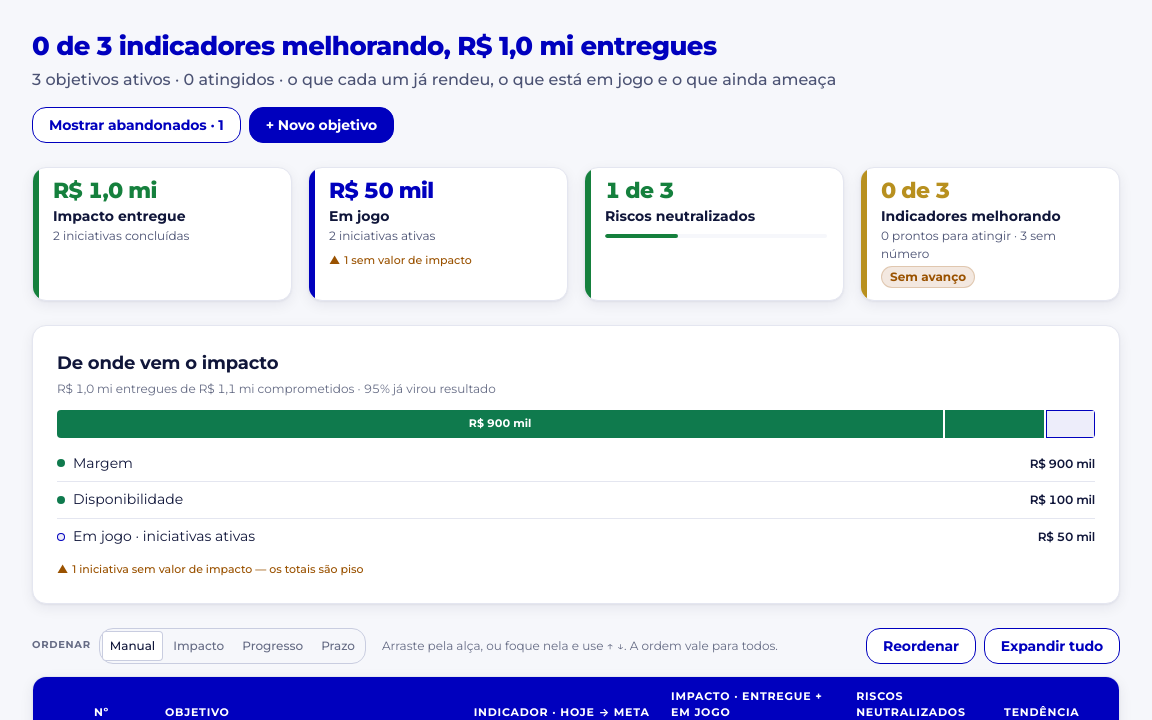
Test case: "Expandir tudo" abre todos os visíveis e vira "Recolher tudo"
Click the button "Expandir tudo": (1052,646) x1=984 y1=628 x2=1120 y2=664
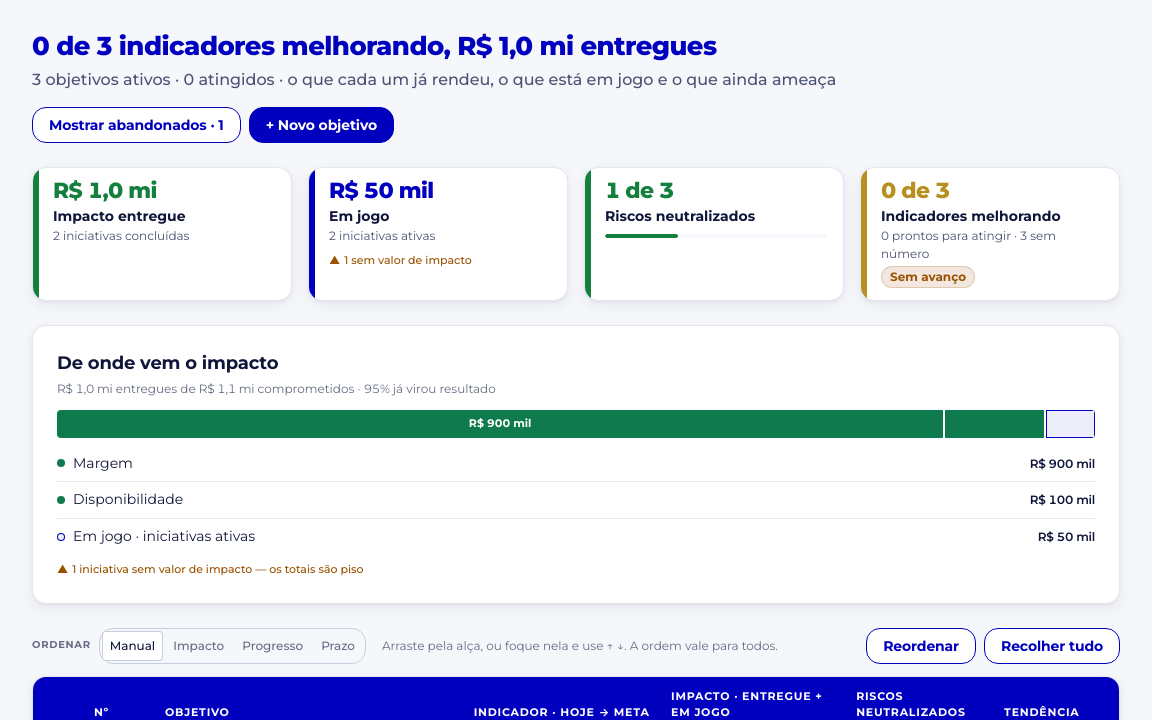
Click the button "Recolher tudo": (1052,646) x1=984 y1=628 x2=1120 y2=664
(page scrolled)
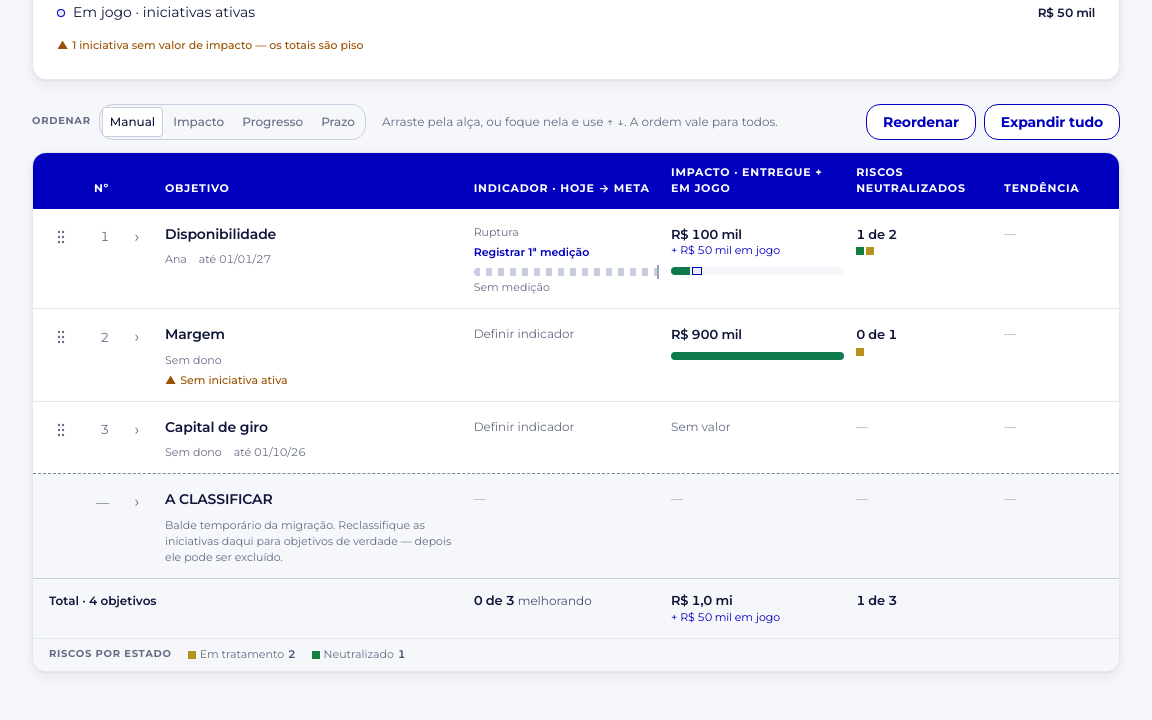
Expected: the button named "Detalhe de " is collapsed, x1=121 y1=221 x2=153 y2=253
